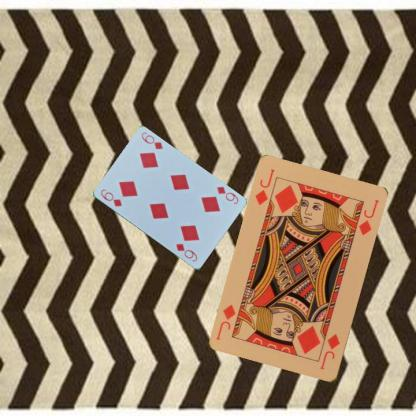6d: (214, 183, 240, 206), (98, 186, 123, 208)
Jd: (317, 332, 342, 372), (253, 166, 276, 207)
